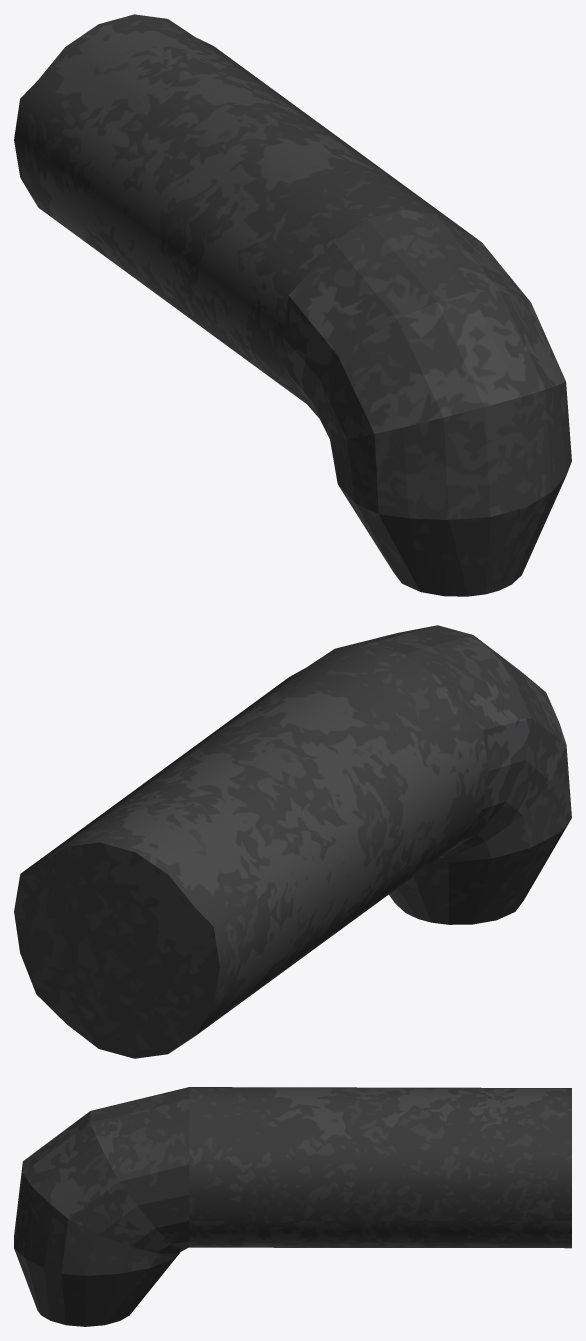
File: Grifo_pila.fbx
3 renders of one model, top to bottom at view 1: azimuth 30°, elevation 25°; view 2: azimuth 150°, elevation 25°; view 3: azimuth 270°, elevation 25°, orthographic. The views are drawn at different scales.
Visible parts, largest first — view 1: Cylinder001; view 2: Cylinder001; view 3: Cylinder001.
Boxes of the visible parts, box(x1,y1,x2,y2) form: Cylinder001: box(14, 14, 571, 596); Cylinder001: box(14, 625, 571, 1058); Cylinder001: box(14, 1087, 571, 1326).
Bounding box in the file's own units: 0.037 × 0.0519 × 0.1218.
Materials: 1 (1 with a texture image).
